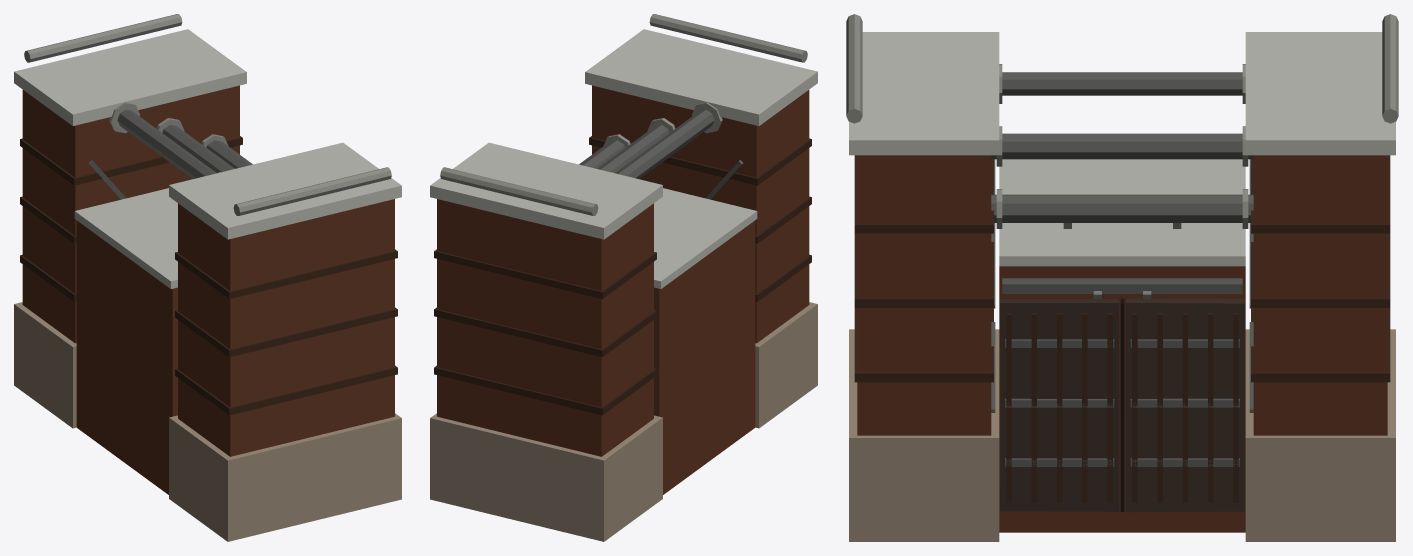
Rendered from fort_pumpworks_gate.glb.
The picture shows the model from 3 angles, left to right: view 1: azimuth 30°, elevation 25°; view 2: azimuth 150°, elevation 25°; view 3: azimuth 270°, elevation 25°; orthographic projection. The views are drawn at different scales.
Visible parts, largest first — view 1: fort_pumpworks_gate; view 2: fort_pumpworks_gate; view 3: fort_pumpworks_gate.
Boxes of the visible parts, box(x1,y1,x2,y2) form: fort_pumpworks_gate: box(14, 14, 401, 541); fort_pumpworks_gate: box(430, 14, 817, 541); fort_pumpworks_gate: box(846, 14, 1398, 541).
Bounding box in the file's own units: 9.46 × 17.2 × 20.2.
